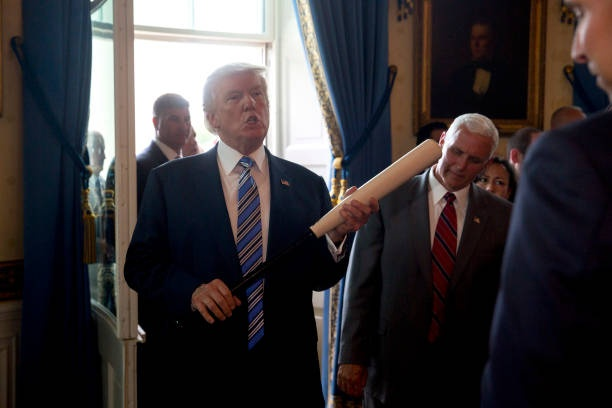bita: (211, 138, 441, 307)
